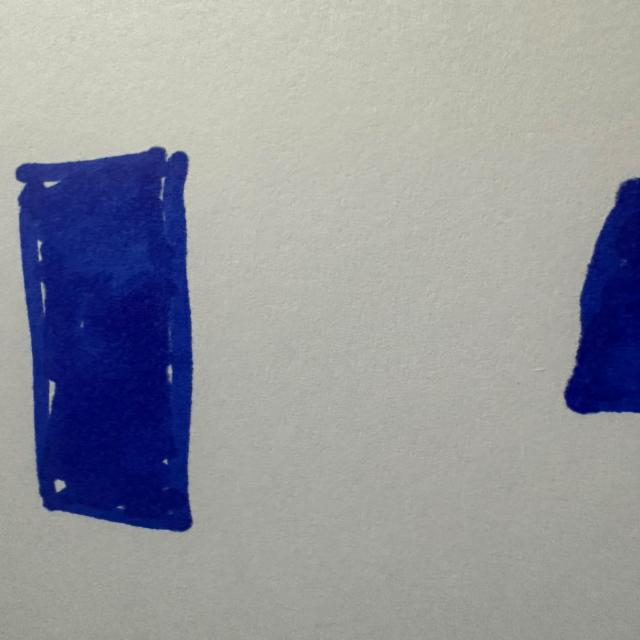Rectangle: (16, 147, 193, 533)
